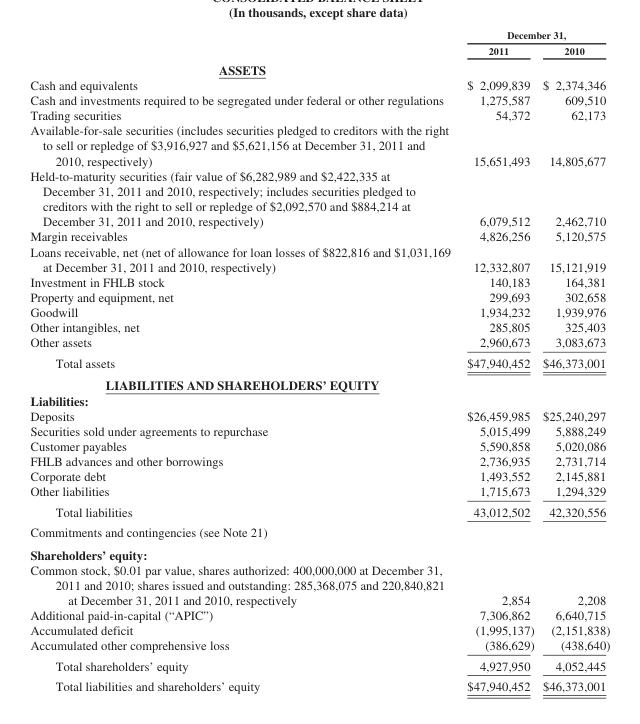table: (29, 28, 609, 692)
table column: (29, 28, 458, 692), (458, 28, 537, 692), (537, 28, 609, 692)
table column header: (29, 28, 609, 58)
table projected row header: (29, 122, 609, 152), (29, 521, 609, 542), (29, 58, 609, 77), (29, 373, 609, 392), (29, 542, 609, 561), (29, 561, 609, 577), (29, 392, 609, 407)
table row: (29, 167, 609, 228), (29, 122, 609, 152), (29, 243, 609, 273), (29, 577, 609, 607), (29, 352, 609, 373), (29, 521, 609, 542), (29, 501, 609, 521), (29, 655, 609, 675), (29, 58, 609, 77), (29, 373, 609, 392), (29, 542, 609, 561), (29, 334, 609, 352), (29, 483, 609, 501), (29, 637, 609, 655), (29, 675, 609, 692), (29, 42, 609, 58), (29, 273, 609, 289), (29, 422, 609, 438), (29, 561, 609, 577), (29, 77, 609, 92), (29, 92, 609, 107), (29, 107, 609, 122), (29, 152, 609, 167), (29, 228, 609, 243), (29, 289, 609, 304), (29, 304, 609, 319), (29, 319, 609, 334), (29, 392, 609, 407), (29, 407, 609, 422), (29, 438, 609, 453), (29, 453, 609, 468), (29, 468, 609, 483), (29, 607, 609, 622), (29, 622, 609, 637), (29, 28, 609, 42)
table spanning cell: (458, 28, 609, 42)
